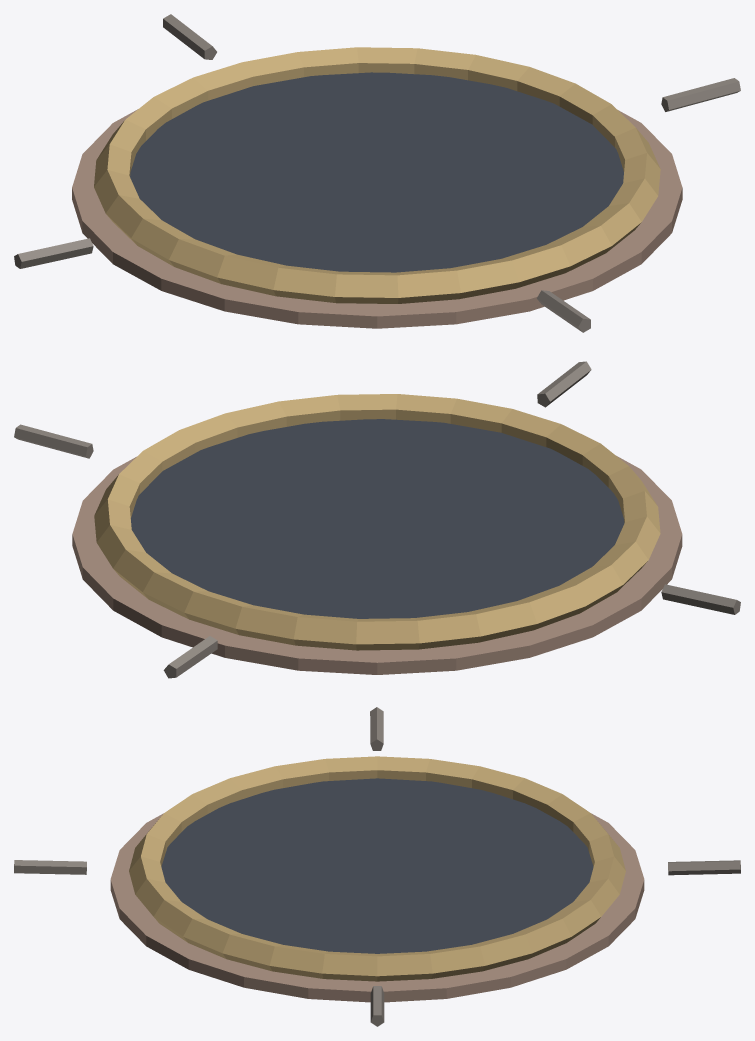
File: agujero.glb
3 renders of one model, top to bottom at view 1: azimuth 30°, elevation 25°; view 2: azimuth 150°, elevation 25°; view 3: azimuth 270°, elevation 25°, orthographic. The views are drawn at different scales.
Visible parts, largest first — view 1: agujero; view 2: agujero; view 3: agujero.
Boxes of the visible parts, bbox=[...] form: agujero: bbox=[14, 14, 740, 332]; agujero: bbox=[14, 361, 740, 678]; agujero: bbox=[14, 707, 740, 1026].
Bounding box in the file's own units: 1.23 × 0.0626 × 1.23.
